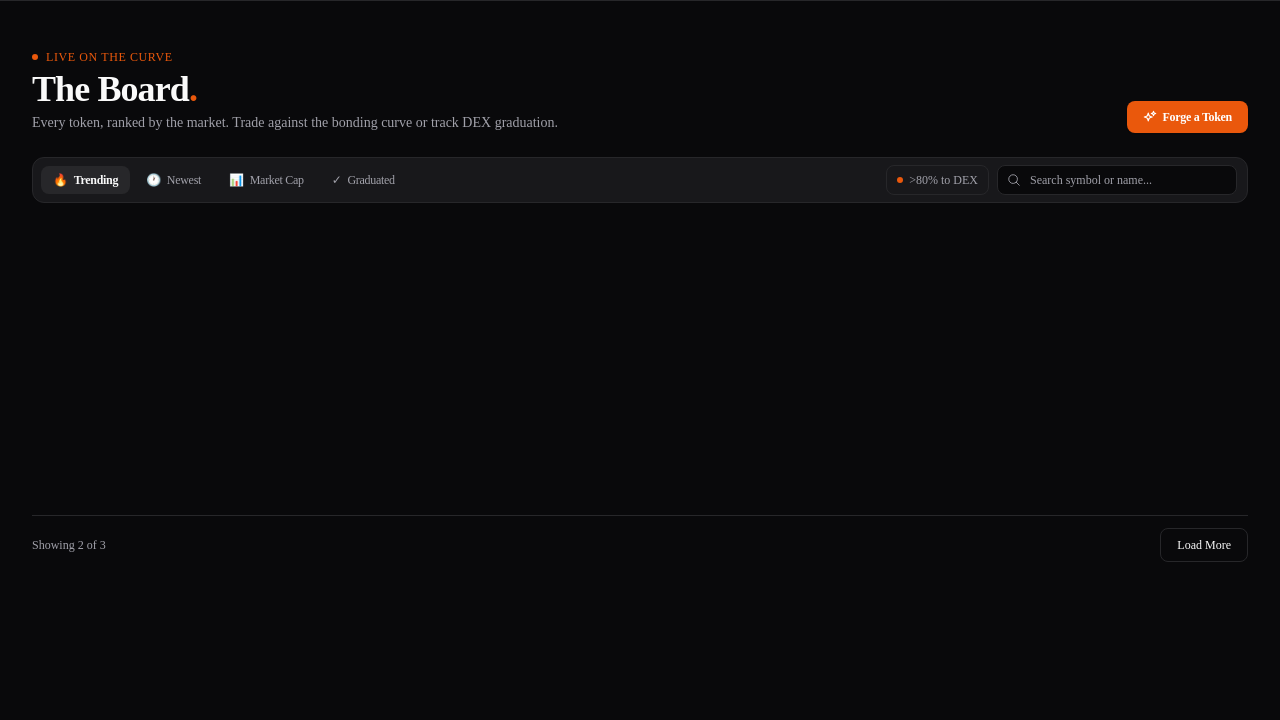
Test: TokenFeed Search, Filtering & Pagination › supports pagination and loads more tokens on button click
Expected: the text "Showing 2 of 3" is shown, 32,537 -> 106,553
Click the button "Load More".
click(1204, 545)  # box 1160,528 -> 1248,562
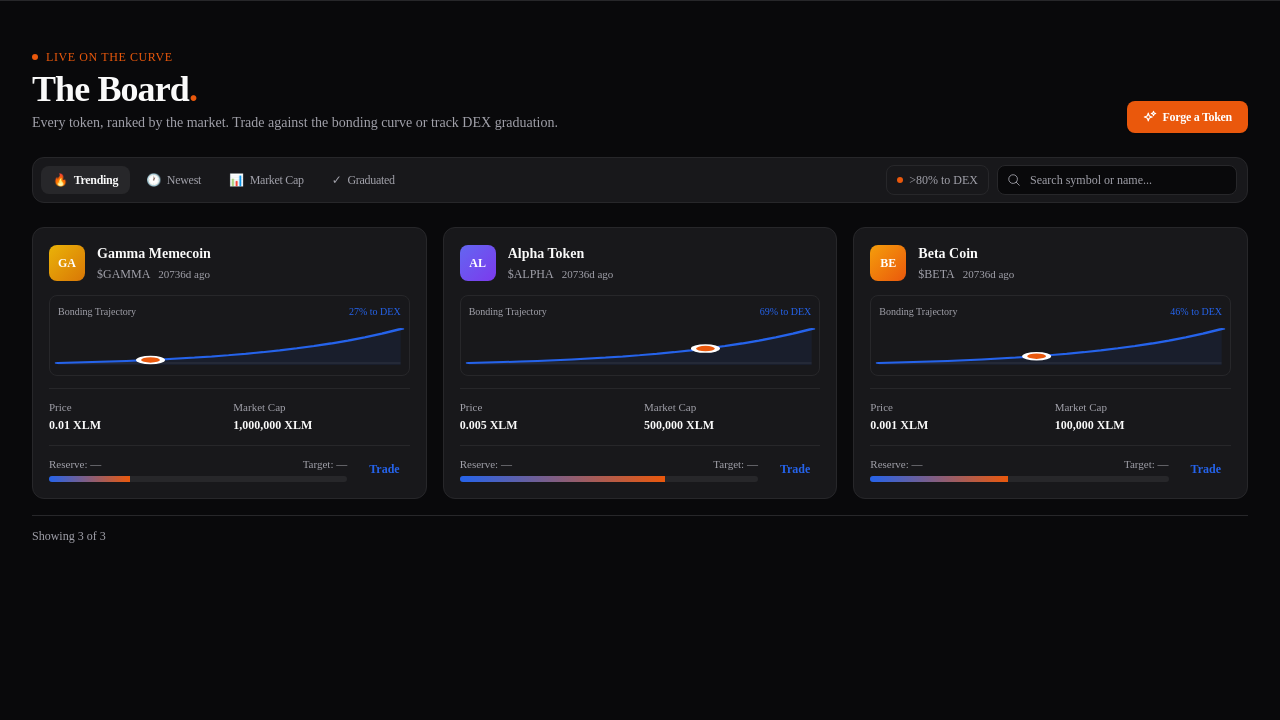
Result: the text "Showing 3 of 3" is shown at 32,528 -> 106,544
Result: the heading "Beta Coin" is shown at 918,246 -> 978,261
Result: the button "Load More" is gone
